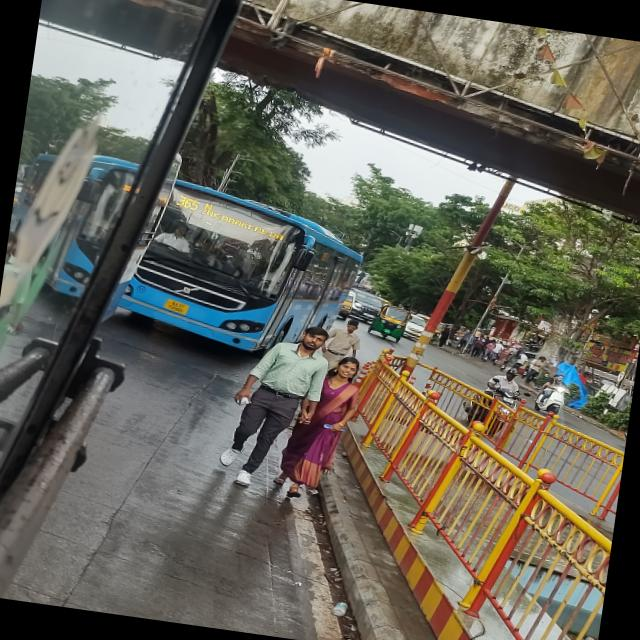bus: (110, 166, 363, 362)
display: (164, 192, 292, 246)
dnumber: (175, 192, 202, 217)
